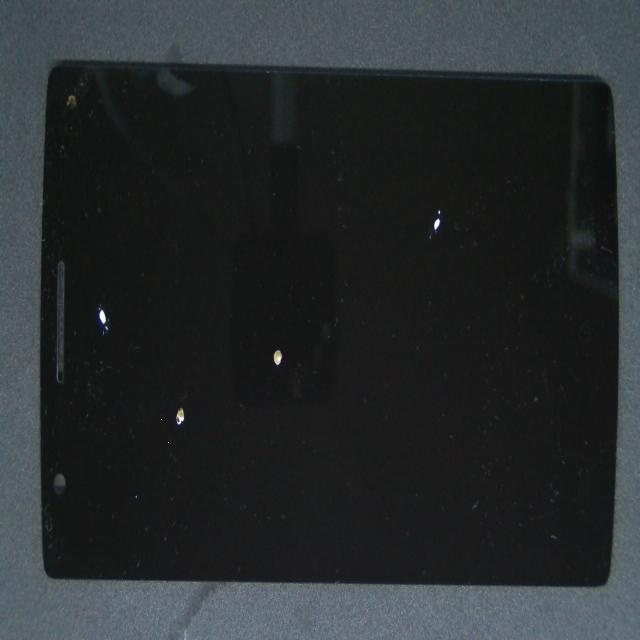stain: (207, 92, 630, 346), (135, 157, 397, 565), (79, 222, 241, 640), (24, 152, 146, 503)
